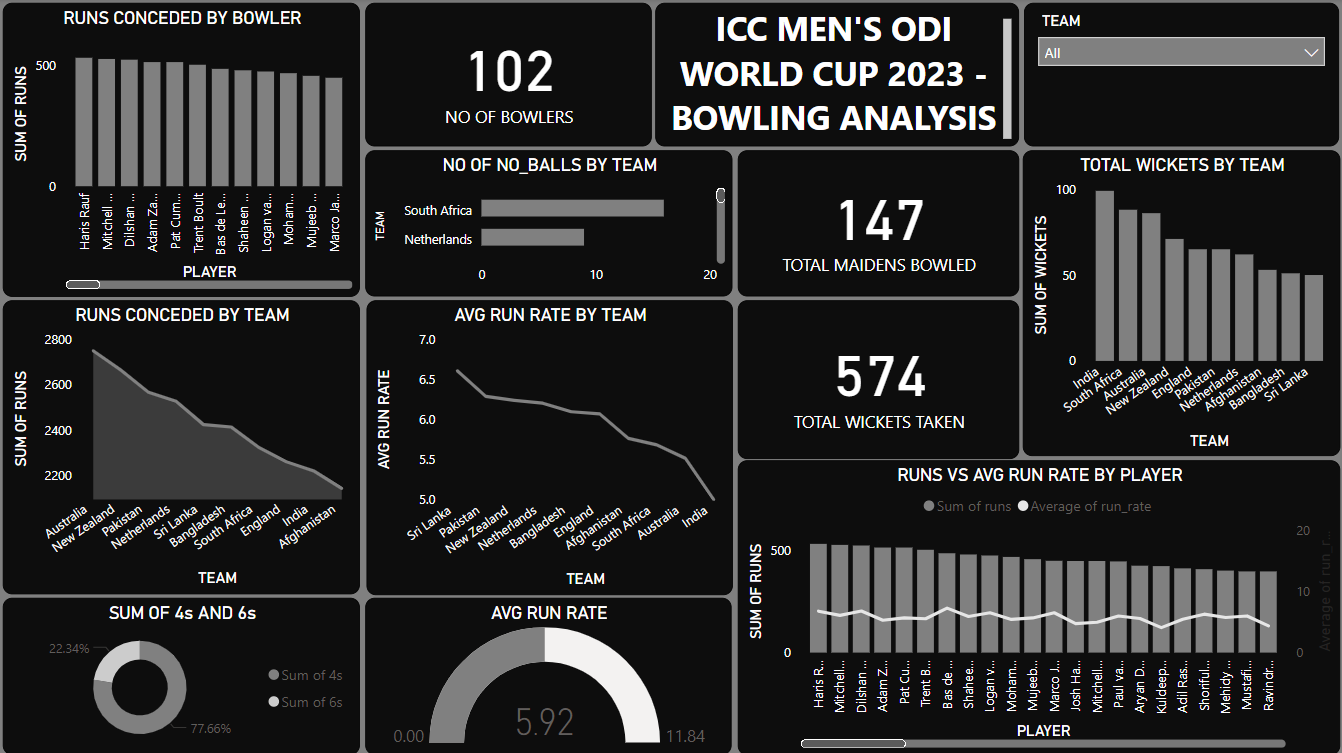

This screenshot's page, from the dashboard's own definition file:
{"tool":"powerbi","page":{"name":"Page 1","canvas":[1280,720],"ordinal":0},"visuals":[{"type":"columnChart","title":"RUNS CONCEDED BY BOWLER","fields":{"Y":["icc_wc_23_bowl.runs"],"Category":["icc_wc_23_bowl.player"]},"box":[3.6,3.6,340.4,279.7],"z":0},{"type":"areaChart","title":"RUNS CONCEDED BY TEAM","fields":{"Category":["icc_wc_23_bowl.team"],"Y":["icc_wc_23_bowl.runs"]},"box":[3.6,286.8,340.4,279.7],"z":1000},{"type":"gauge","title":"AVG RUN RATE","fields":{"Y":["icc_wc_23_bowl.run_rate"]},"box":[348.7,570,348.7,150],"z":2000},{"type":"donutChart","title":"SUM OF 4s AND 6s","fields":{"Y":["icc_wc_23_bowl.4s","icc_wc_23_bowl.6s"]},"box":[3.6,570,340.4,150],"z":3000},{"type":"lineChart","title":"AVG RUN RATE BY TEAM","fields":{"Category":["icc_wc_23_bowl.team"],"Y":["icc_wc_23_bowl.run_rate"]},"box":[349.9,286.8,348.7,280.9],"z":4000},{"type":"lineClusteredColumnComboChart","title":"RUNS VS AVG RUN RATE BY PLAYER","fields":{"Y":["icc_wc_23_bowl.runs"],"Y2":["icc_wc_23_bowl.run_rate"],"Category":["icc_wc_23_bowl.player"]},"box":[703.3,439.1,573.6,280.9],"z":5000},{"type":"barChart","title":"NO OF NO_BALLS BY TEAM","fields":{"Y":["icc_wc_23_bowl.nb"],"Category":["icc_wc_23_bowl.team"]},"box":[348.7,144,349.9,139.2],"z":6000},{"type":"card","fields":{"Values":["icc_wc_23_bowl.player"]},"box":[348.7,3.6,272.5,136.9],"z":7000},{"type":"columnChart","title":"TOTAL WICKETS BY TEAM","fields":{"Category":["icc_wc_23_bowl.team"],"Y":["icc_wc_23_bowl.wickets"]},"box":[974.7,144,302.3,291.6],"z":8000},{"type":"card","fields":{"Values":["icc_wc_23_bowl.wickets"]},"box":[703.3,286.8,267.8,151.1],"z":9000},{"type":"card","fields":{"Values":["icc_wc_23_bowl.maidens"]},"box":[703.3,144,267.8,139.2],"z":10000},{"type":"slicer","fields":{"Values":["icc_wc_23_bowl.team"]},"box":[975.9,3.6,299.9,136.9],"z":11000},{"type":"textbox","box":[624.8,3.6,346.3,136.9],"z":12000}]}

Visuals, with their boxes in screenshot pixels (x1, y1, x2, y2), scaled from the page's 1280x720 canvas onto the 1342x753 screenshot:
"RUNS CONCEDED BY BOWLER" columnChart: locate(4, 4, 361, 296)
"RUNS CONCEDED BY TEAM" areaChart: locate(4, 300, 361, 592)
"AVG RUN RATE" gauge: locate(366, 596, 731, 752)
"SUM OF 4s AND 6s" donutChart: locate(4, 596, 361, 752)
"AVG RUN RATE BY TEAM" lineChart: locate(367, 300, 732, 594)
"RUNS VS AVG RUN RATE BY PLAYER" lineClusteredColumnComboChart: locate(737, 459, 1339, 752)
"NO OF NO_BALLS BY TEAM" barChart: locate(366, 151, 732, 296)
card - icc_wc_23_bowl.player: locate(366, 4, 651, 147)
"TOTAL WICKETS BY TEAM" columnChart: locate(1022, 151, 1339, 456)
card - icc_wc_23_bowl.wickets: locate(737, 300, 1018, 458)
card - icc_wc_23_bowl.maidens: locate(737, 151, 1018, 296)
slicer - icc_wc_23_bowl.team: locate(1023, 4, 1338, 147)
textbox: locate(655, 4, 1018, 147)
